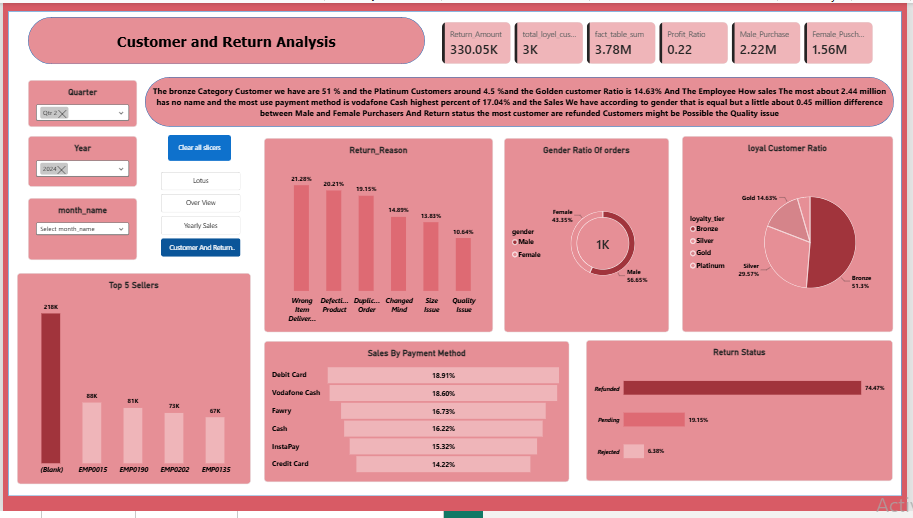

The dashboard page shown, as its layout file describes it:
{"tool":"powerbi","page":{"name":"Customer And Return Analysis","canvas":[1920,1080],"ordinal":3},"visuals":[{"type":"shape","box":[11.2,17.9,1899.9,1031.4],"z":0},{"type":"pieChart","title":"loyal Customer Ratio","fields":{"Category":["dim_customers.loyalty_tier"],"Y":["CountNonNull(dim_customers.customer_id)"]},"box":[1444.5,283.5,448.7,417.5],"z":1000},{"type":"donutChart","title":"Gender Ratio Of orders  ","fields":{"Category":["dim_customers.gender"],"Y":["Customer_date.total_orders_yearly"]},"box":[1064.9,288,350.5,413],"z":2000},{"type":"clusteredBarChart","title":"Return Status","fields":{"Category":["fact_returns.return_status"],"Y":["CountNonNull(fact_returns.order_id)"]},"box":[1240.2,715.8,652,299.7],"z":3000},{"type":"shape","box":[53.6,29,843.9,100.5],"z":4000},{"type":"funnel","title":"Sales By Payment Method","fields":{"Category":["Fact_table_Yearly.payment_method"],"Y":["Customer_date.fact_table_sum"]},"box":[554.9,718.6,649.2,299.7],"z":5000},{"type":"cardVisual","fields":{"Data":["Customer_date.Return_Ammount","Customer_date.total_loyel_customers","Customer_date.fact_table_sum","Customer_date.Profit_Ratio","Customer_date.Female_Purchase","Customer_date.Female_Puschase"]},"box":[933.2,40.2,919.8,89.3],"z":6000},{"type":"listSlicer","fields":{"Values":["dim_date.full_date.Variation.Date Hierarchy.Year"]},"box":[52.8,282.6,232.4,108.3],"z":7000},{"type":"listSlicer","fields":{"Values":["dim_date.full_date.Variation.Date Hierarchy.Quarter"]},"box":[52.8,163.7,232.4,100.4],"z":8000},{"type":"listSlicer","fields":{"Values":["dim_date.month_name"]},"box":[52.8,414.6,232.4,132],"z":9000},{"type":"shape","box":[301.3,158.4,1592.3,105.6],"z":10000},{"type":"pageNavigator","box":[334.9,359.4,169.7,180.8],"z":11000},{"type":"clusteredColumnChart","title":"Return_Reason","fields":{"Category":["fact_returns.return_reason"],"Y":["CountNonNull(fact_returns.return_id)"]},"box":[555.9,288,486.7,413],"z":12000},{"type":"columnChart","title":"Top 5 Sellers","fields":{"Category":["dim_employees.employee_id"],"Y":["Customer_date.fact_table_sum"]},"box":[30.5,574.3,496.6,449.5],"z":13000},{"type":"actionButton","box":[350.8,280.6,133.9,55.3],"z":14000}]}

Visuals, with their boxes in screenshot pixels (x1, y1, x2, y2), scaled from the page's 1920x1080 canvas onto the 913x518 screenshot:
shape: Rect(5, 9, 909, 503)
"loyal Customer Ratio" pieChart: Rect(687, 136, 900, 336)
"Gender Ratio Of orders  " donutChart: Rect(506, 138, 673, 336)
"Return Status" clusteredBarChart: Rect(590, 343, 900, 487)
shape: Rect(25, 14, 427, 62)
"Sales By Payment Method" funnel: Rect(264, 345, 573, 488)
cardVisual - Customer_date.Return_Ammount x Customer_date.total_loyel_customers: Rect(444, 19, 881, 62)
listSlicer - dim_date.full_date.Variation.Date Hierarchy.Year: Rect(25, 136, 136, 187)
listSlicer - dim_date.full_date.Variation.Date Hierarchy.Quarter: Rect(25, 79, 136, 127)
listSlicer - dim_date.month_name: Rect(25, 199, 136, 262)
shape: Rect(143, 76, 900, 127)
pageNavigator: Rect(159, 172, 240, 259)
"Return_Reason" clusteredColumnChart: Rect(264, 138, 496, 336)
"Top 5 Sellers" columnChart: Rect(15, 275, 251, 491)
actionButton: Rect(167, 135, 230, 161)
